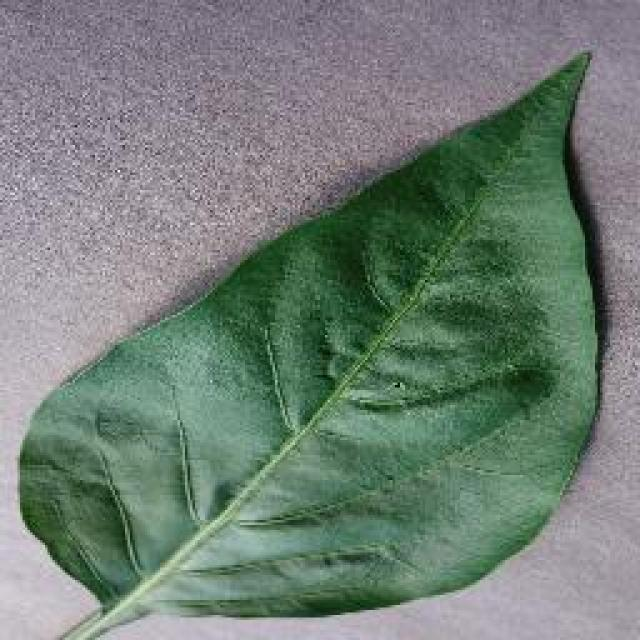Chilli_Healthy: (13, 45, 605, 637)
